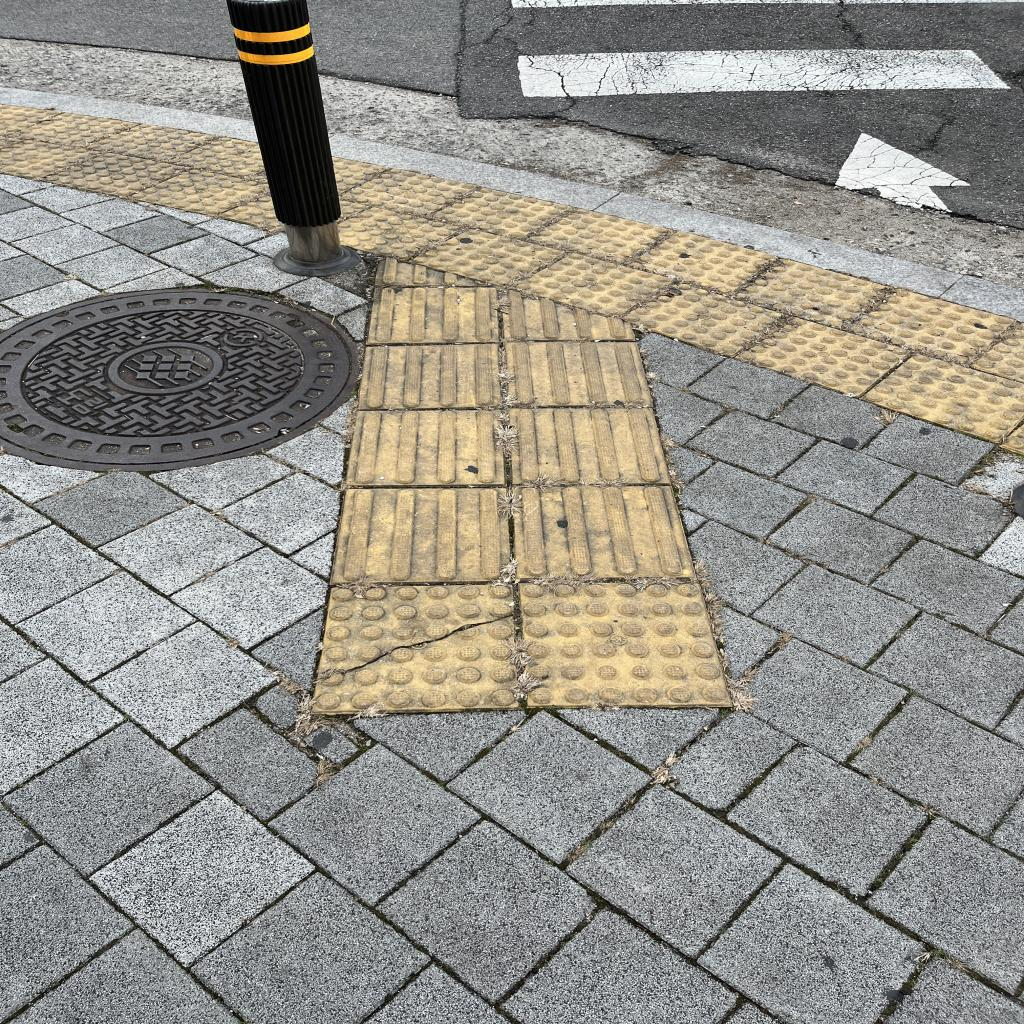Stop block broken: (311, 584, 517, 712)
Stop block normal: (520, 582, 732, 706), (512, 240, 674, 329), (409, 216, 562, 297)
Straight block normal: (343, 490, 504, 578), (516, 489, 675, 572), (509, 408, 669, 483), (355, 413, 499, 482), (508, 344, 639, 403), (367, 347, 498, 406), (373, 288, 495, 342)
